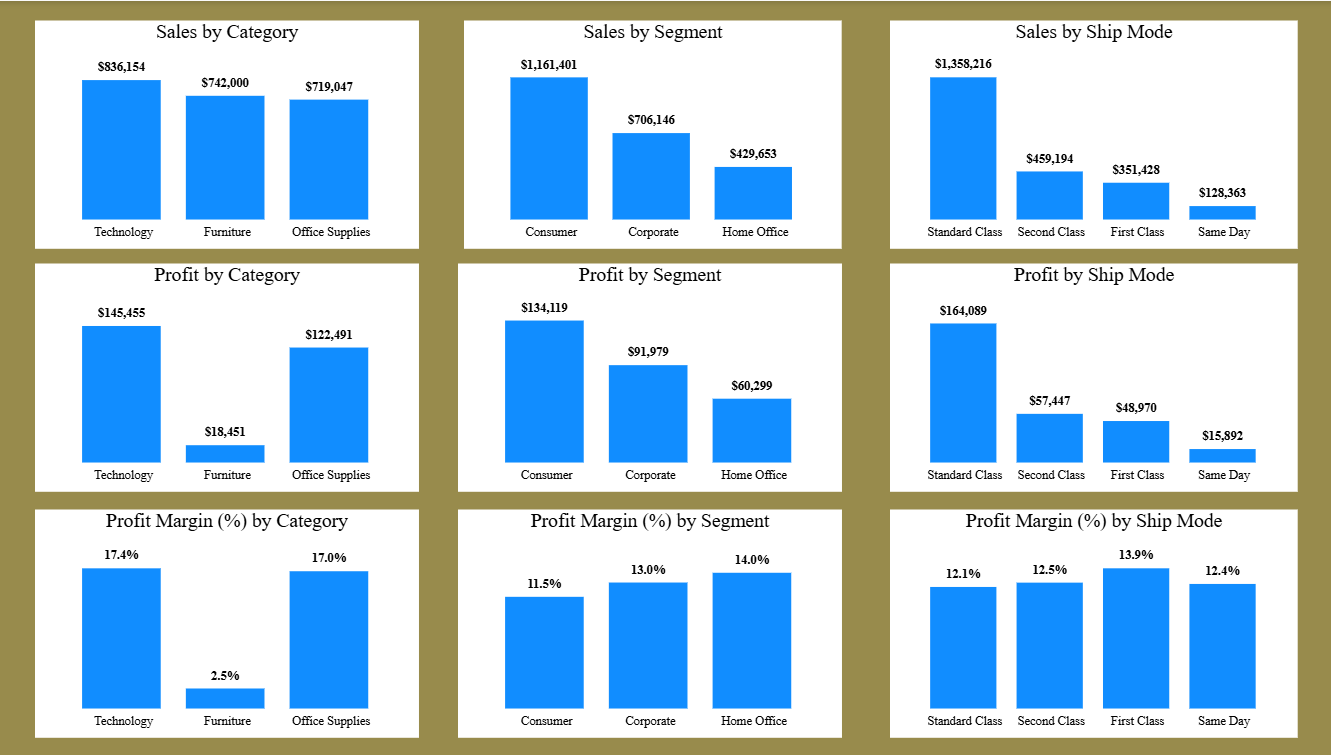

The dashboard page shown, as its layout file describes it:
{"tool":"powerbi","page":{"name":"Page 1","canvas":[1280,720],"ordinal":0},"visuals":[{"type":"clusteredColumnChart","title":"Sales by Category","fields":{"Y":["Sum(Superstore sales dataset.Sales)"],"Category":["Superstore sales dataset.Category"]},"box":[37.2,18.6,366.7,217.7],"z":0},{"type":"clusteredColumnChart","title":"Sales by Segment","fields":{"Y":["Sum(Superstore sales dataset.Sales)"],"Category":["Superstore sales dataset.Segment"]},"box":[446.9,18.6,361,217.7],"z":1000},{"type":"clusteredColumnChart","title":"Sales by Ship Mode","fields":{"Y":["Sum(Superstore sales dataset.Sales)"],"Category":["Superstore sales dataset.Ship Mode"]},"box":[853.7,18.6,389.6,217.7],"z":2000},{"type":"clusteredColumnChart","title":"Profit by Category","fields":{"Y":["Sum(Superstore sales dataset.Profit)"],"Category":["Superstore sales dataset.Category"]},"box":[37.2,250.7,366.7,217.7],"z":3000},{"type":"clusteredColumnChart","title":"Profit by Segment","fields":{"Y":["Sum(Superstore sales dataset.Profit)"],"Category":["Superstore sales dataset.Segment"]},"box":[441.2,250.7,366.7,217.7],"z":4000},{"type":"clusteredColumnChart","title":"Profit  by Ship Mode","fields":{"Y":["Sum(Superstore sales dataset.Profit)"],"Category":["Superstore sales dataset.Ship Mode"]},"box":[853.7,250.7,389.6,217.7],"z":5000},{"type":"clusteredColumnChart","title":"Profit Margin (%) by Category","fields":{"Y":["Superstore sales dataset.Profit Margin"],"Category":["Superstore sales dataset.Category"]},"box":[37.2,485.6,366.7,217.7],"z":6000},{"type":"clusteredColumnChart","title":"Profit Margin (%)  by Segment","fields":{"Y":["Superstore sales dataset.Profit Margin"],"Category":["Superstore sales dataset.Segment"]},"box":[441.2,485.6,366.7,217.7],"z":7000},{"type":"clusteredColumnChart","title":"Profit Margin (%) by Ship Mode","fields":{"Y":["Superstore sales dataset.Profit Margin"],"Category":["Superstore sales dataset.Ship Mode"]},"box":[853.7,485.6,389.6,217.7],"z":8000}]}

Visuals, with their boxes in screenshot pixels (x1, y1, x2, y2), scaled from the page's 1280x720 canvas onto the 1331x755 screenshot:
"Sales by Category" clusteredColumnChart: (39,20,420,248)
"Sales by Segment" clusteredColumnChart: (465,20,840,248)
"Sales by Ship Mode" clusteredColumnChart: (888,20,1293,248)
"Profit by Category" clusteredColumnChart: (39,263,420,491)
"Profit by Segment" clusteredColumnChart: (459,263,840,491)
"Profit  by Ship Mode" clusteredColumnChart: (888,263,1293,491)
"Profit Margin (%) by Category" clusteredColumnChart: (39,509,420,737)
"Profit Margin (%)  by Segment" clusteredColumnChart: (459,509,840,737)
"Profit Margin (%) by Ship Mode" clusteredColumnChart: (888,509,1293,737)
